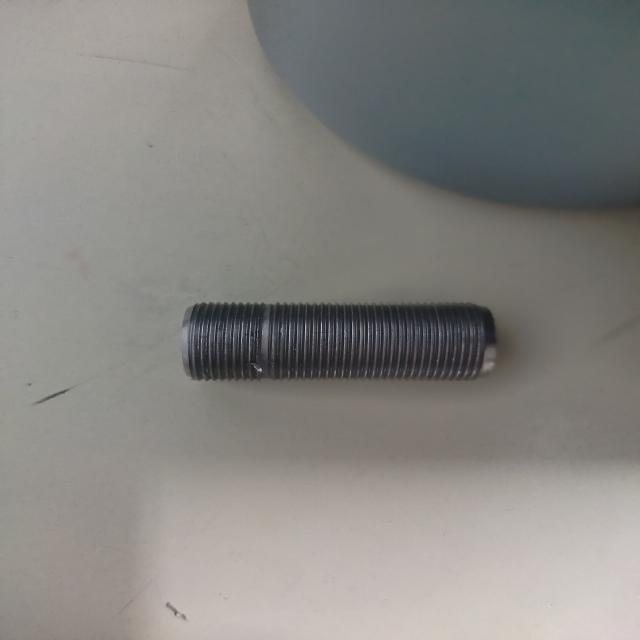Broken: (178, 301, 494, 382)
